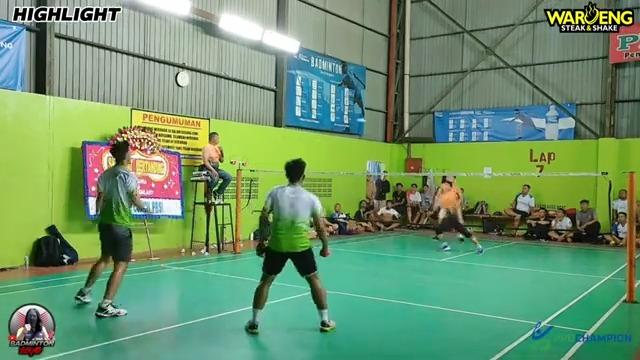Shuttlecock: (357, 112, 371, 126)
